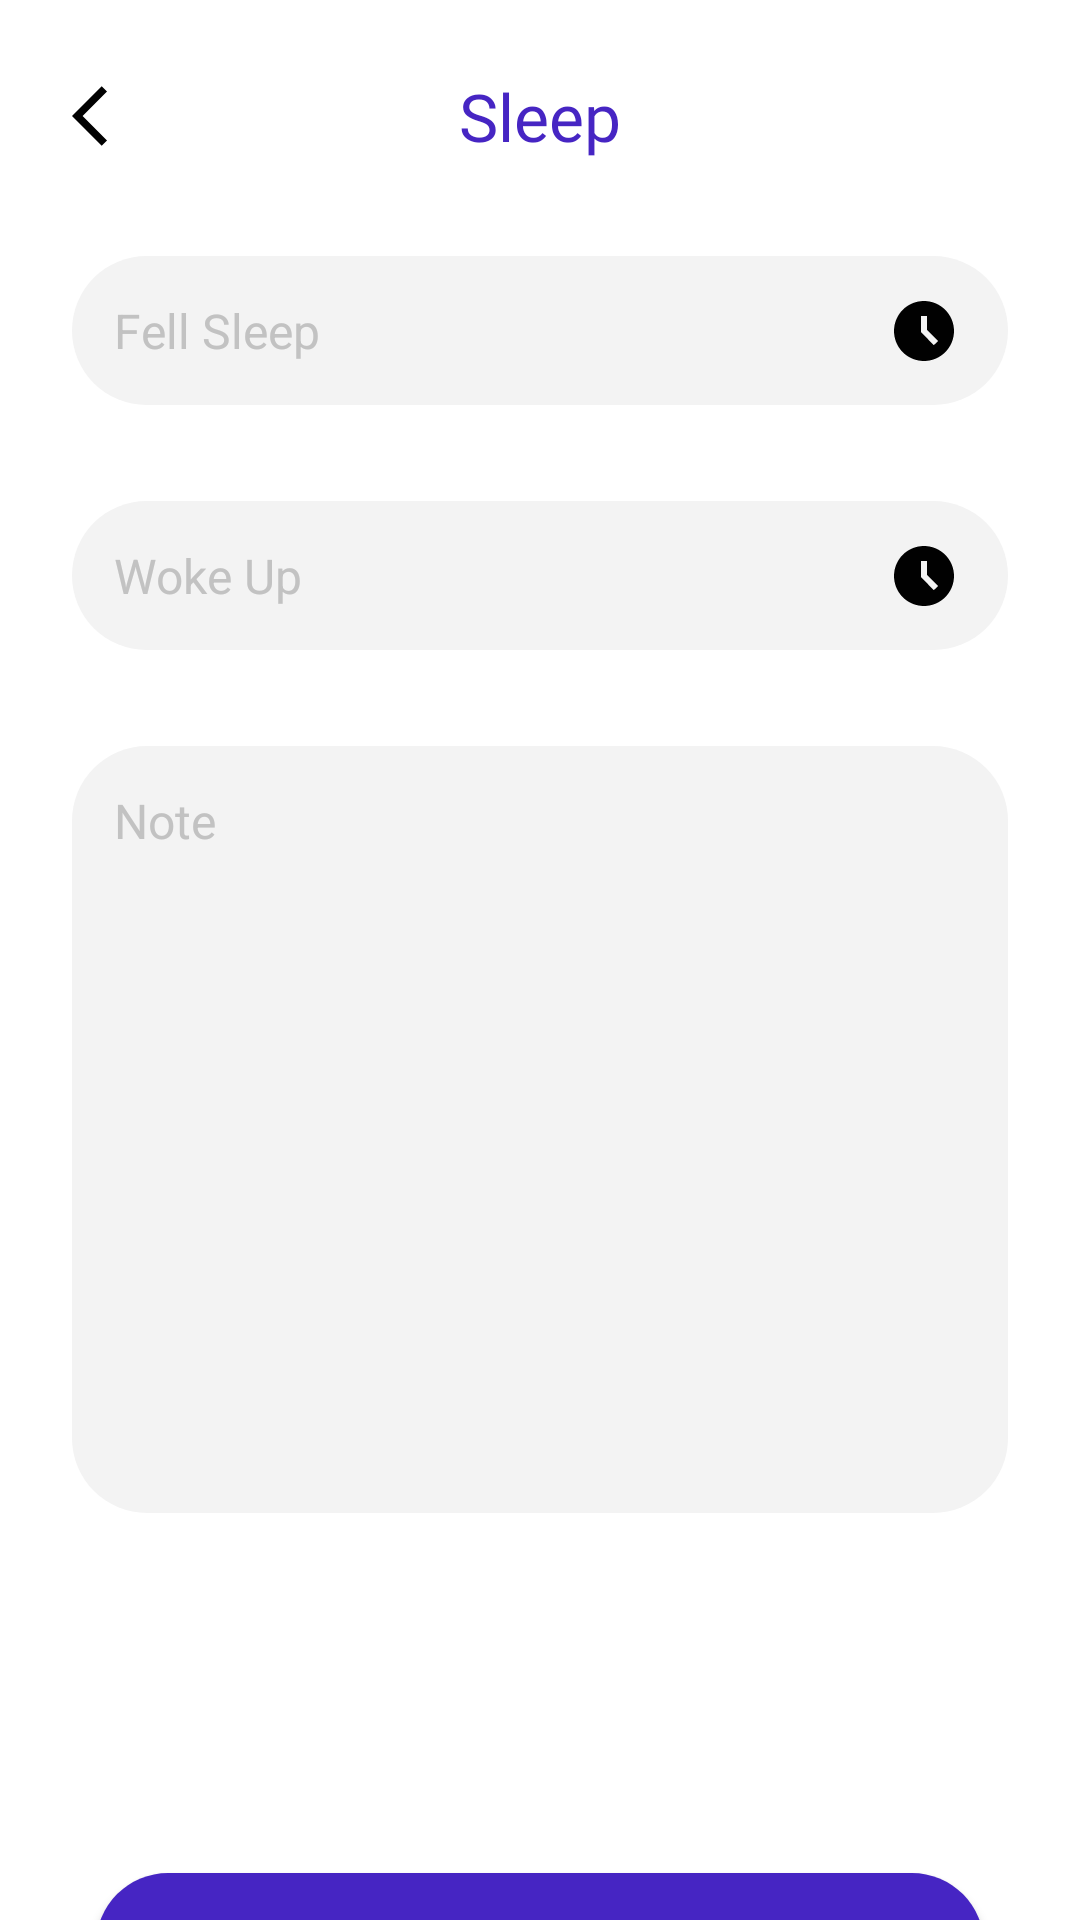

Icons on this 1080*1920 Android screen, each with the point to tap as (x=x, y=y):
back: (x=89, y=116)
time: (x=924, y=331), (x=924, y=576)
